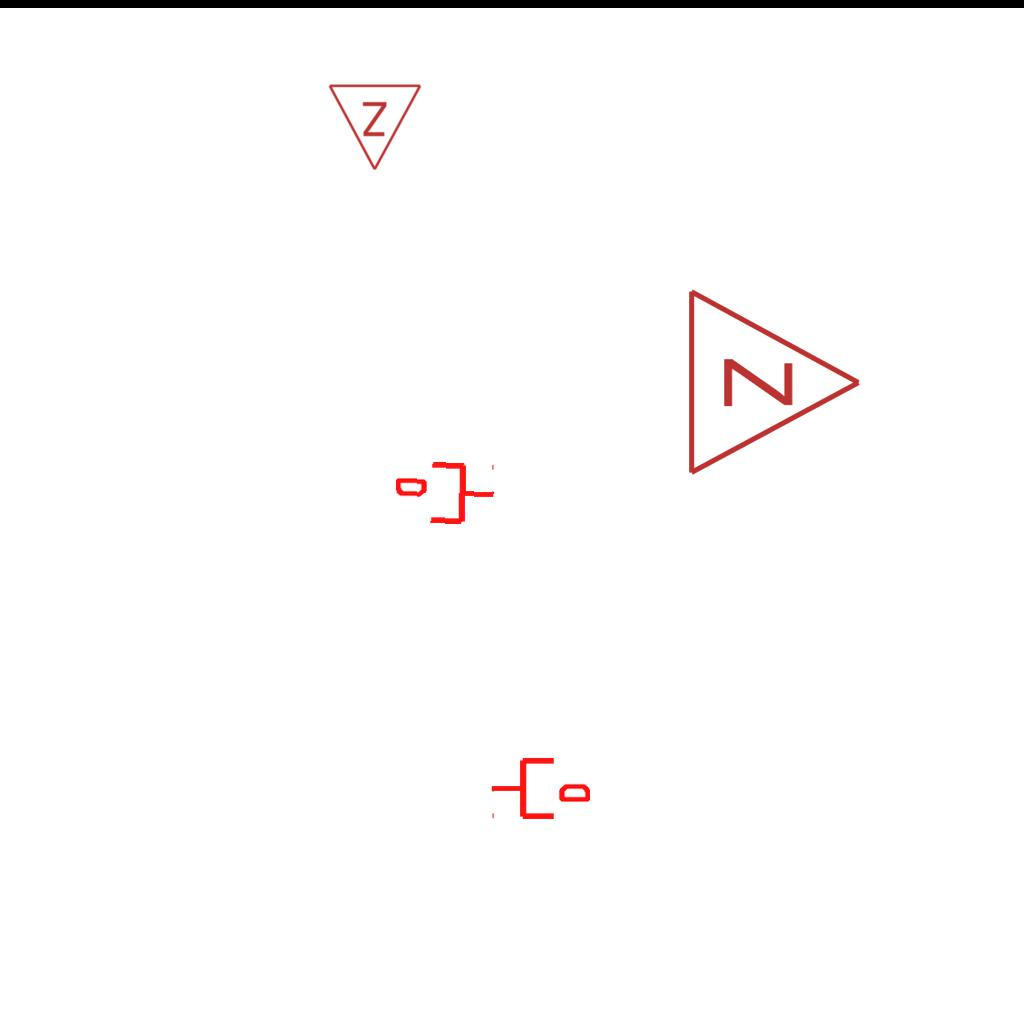Datenanschluss_einfach: (394, 456, 497, 530), (490, 754, 590, 823)
Zimmersignalleuchte: (674, 282, 874, 478), (327, 77, 425, 177)
